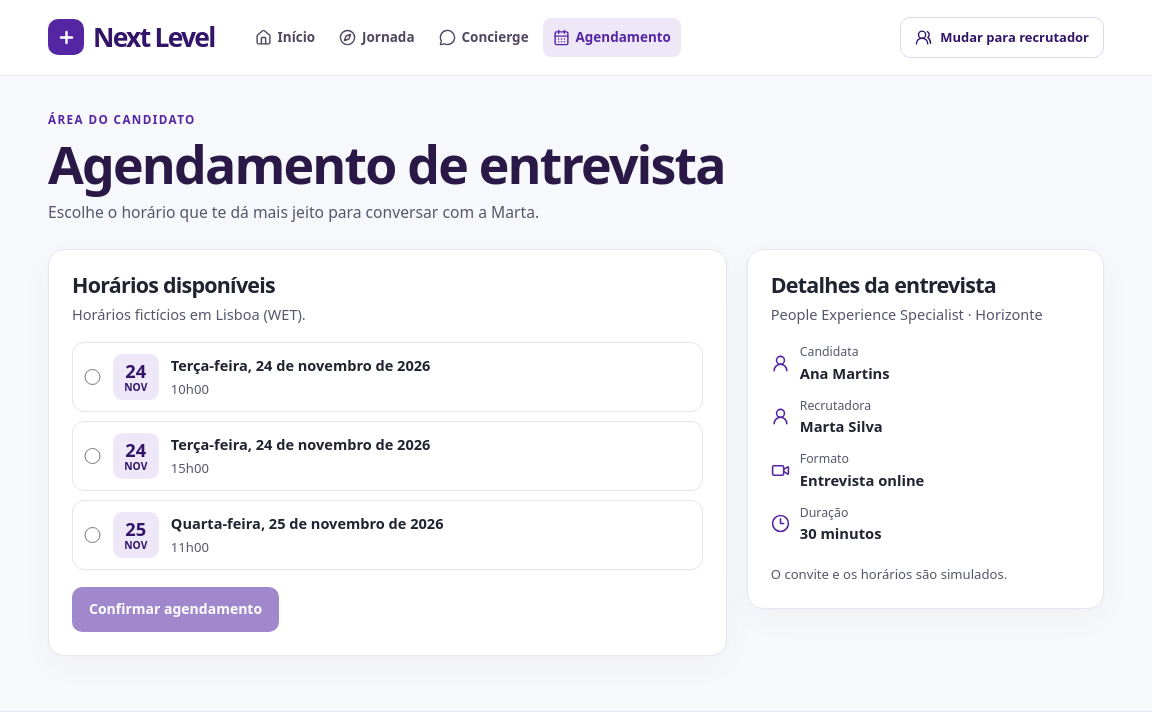
Test case: Jornada e estado local › reinicia todos os dados após confirmação
Earlier steps of the test are not shown.
Click the radio button labelled "24 NOV Terça-feira, 24 de novembro de 2026 10h00": (92, 377) [84,369,101,386]
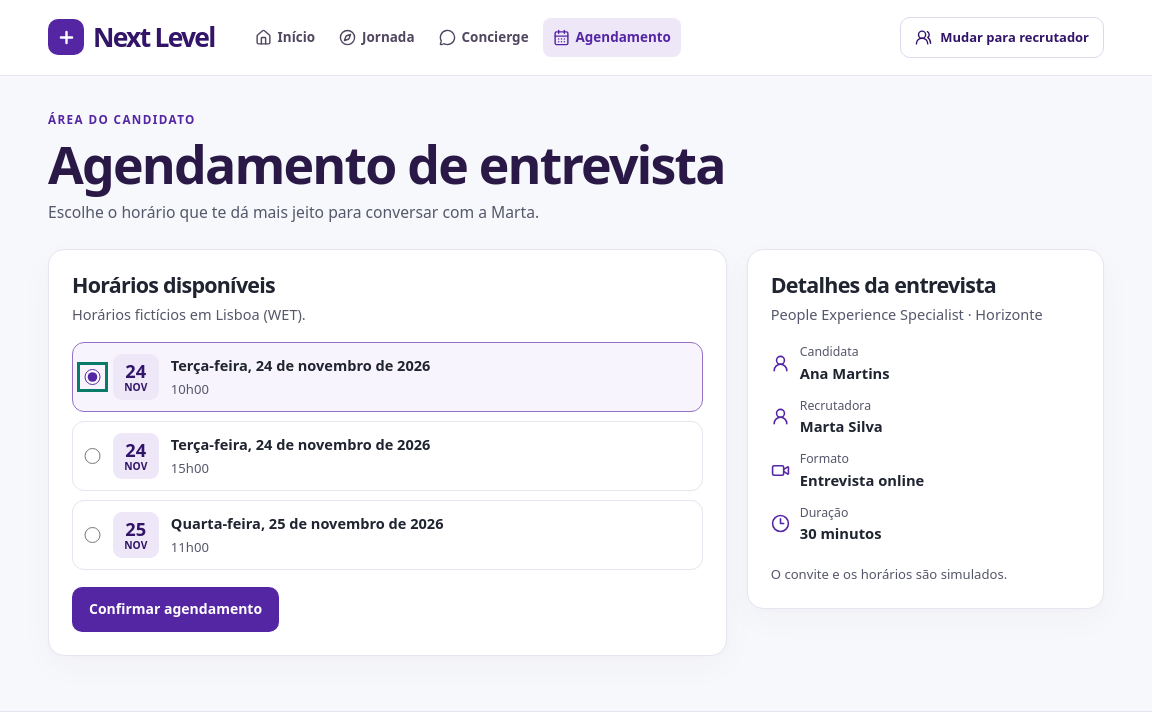
Click the button "Confirmar agendamento": (176, 610) [72,587,279,632]
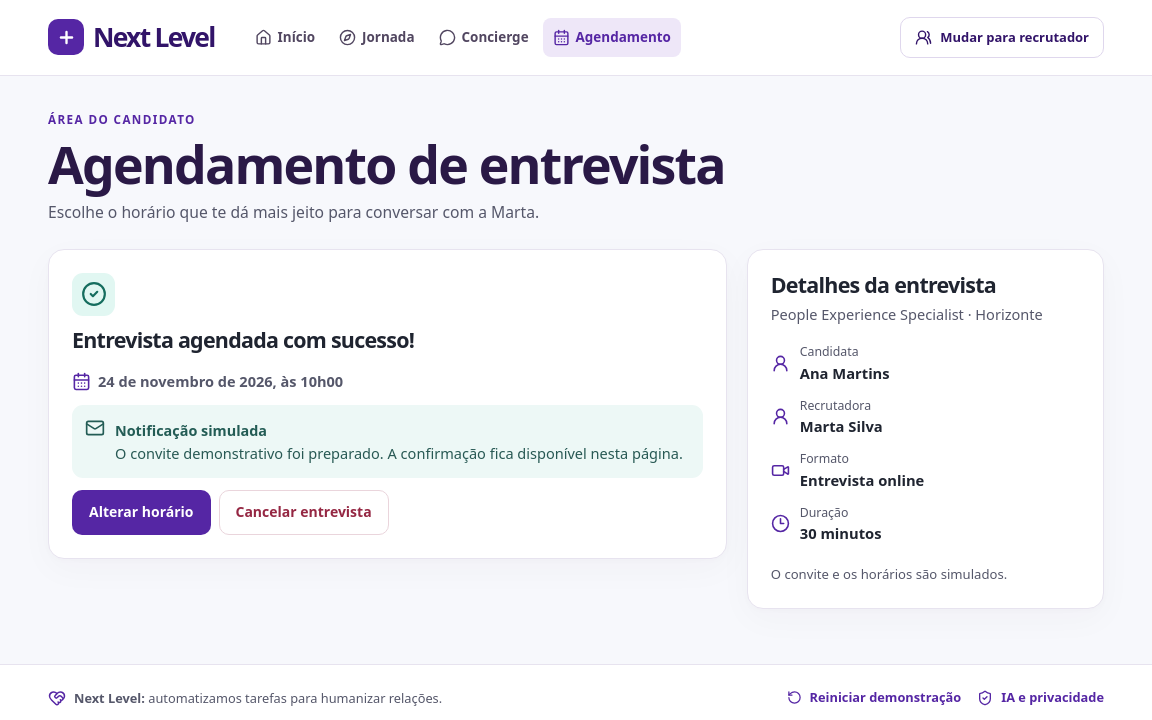
Click the button "Reiniciar demonstração": (874, 698) [787,683,961,712]
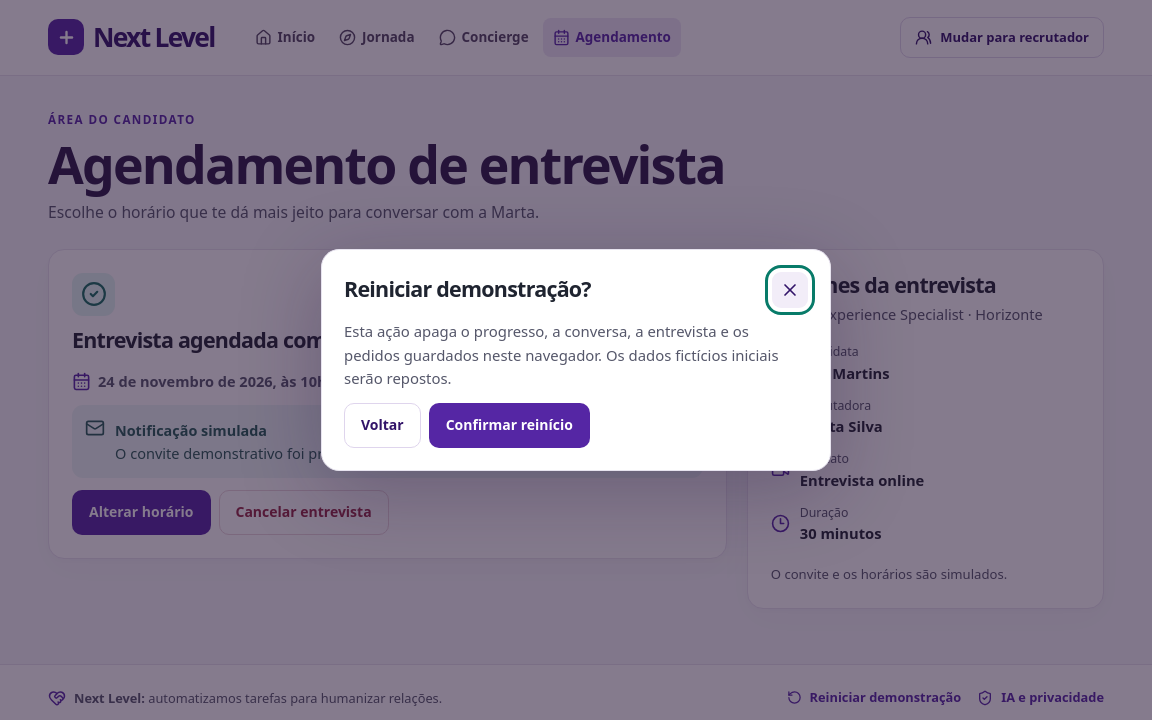
Click the button "Voltar": (382, 426) [344,403,421,448]
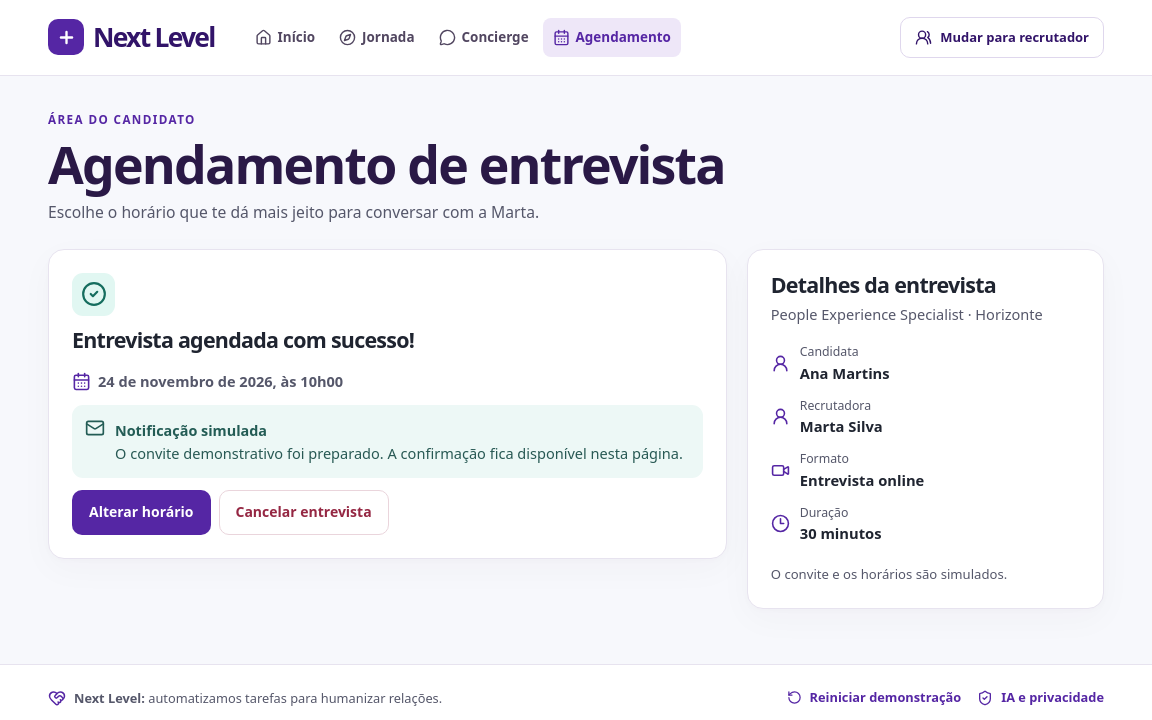
Expected: the heading "Entrevista agendada com sucesso!" is shown, [72,325,414,354]
Click the button "Reiniciar demonstração": (874, 698) [787,683,961,712]
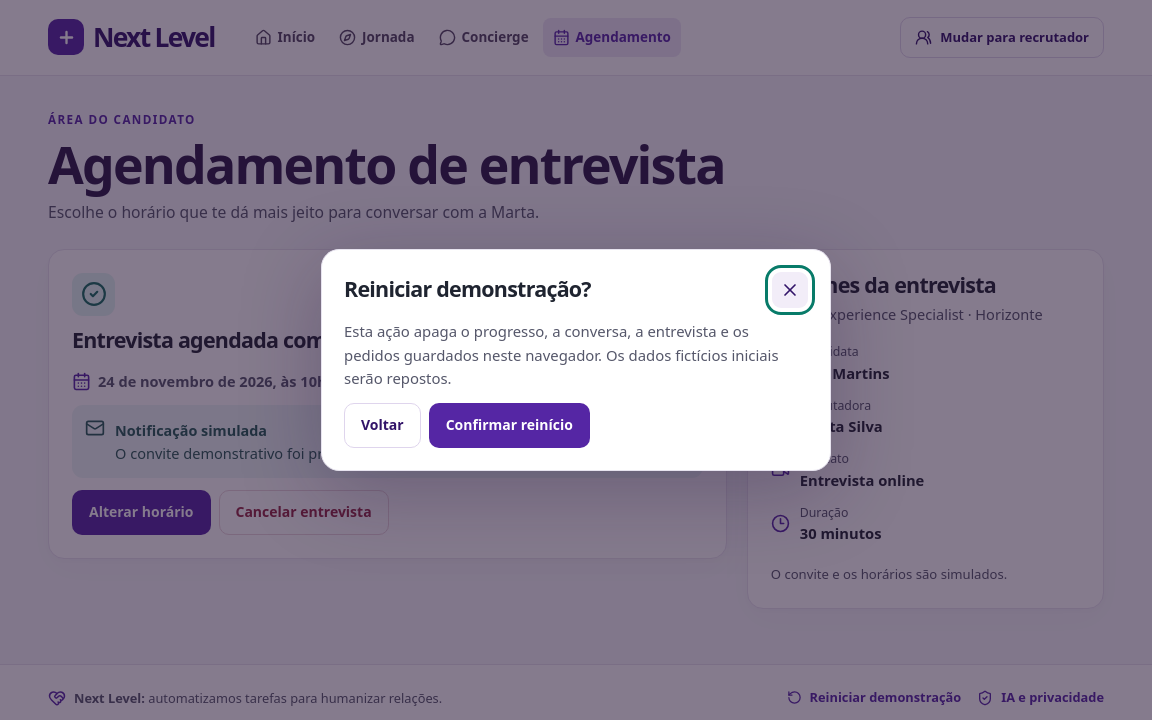
Click the button "Confirmar reinício": (509, 426) [429,403,590,448]
(page scrolled)
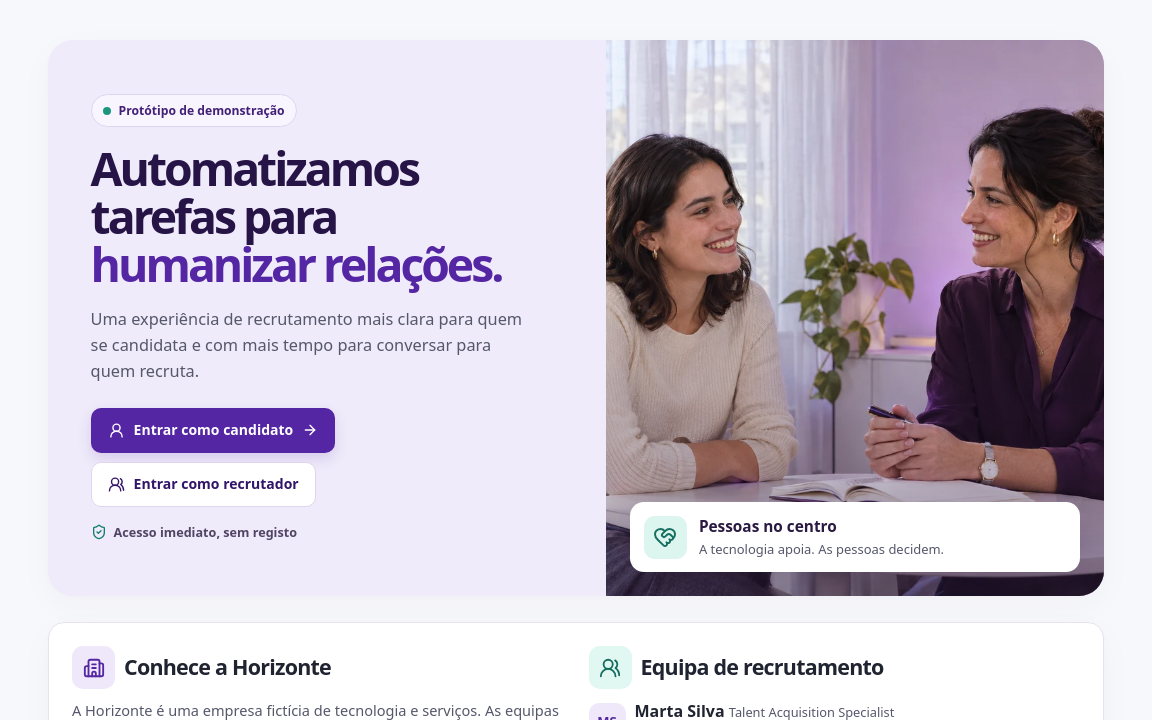
Expected: the button "Entrar como candidato" is shown, [91,408,335,453]
